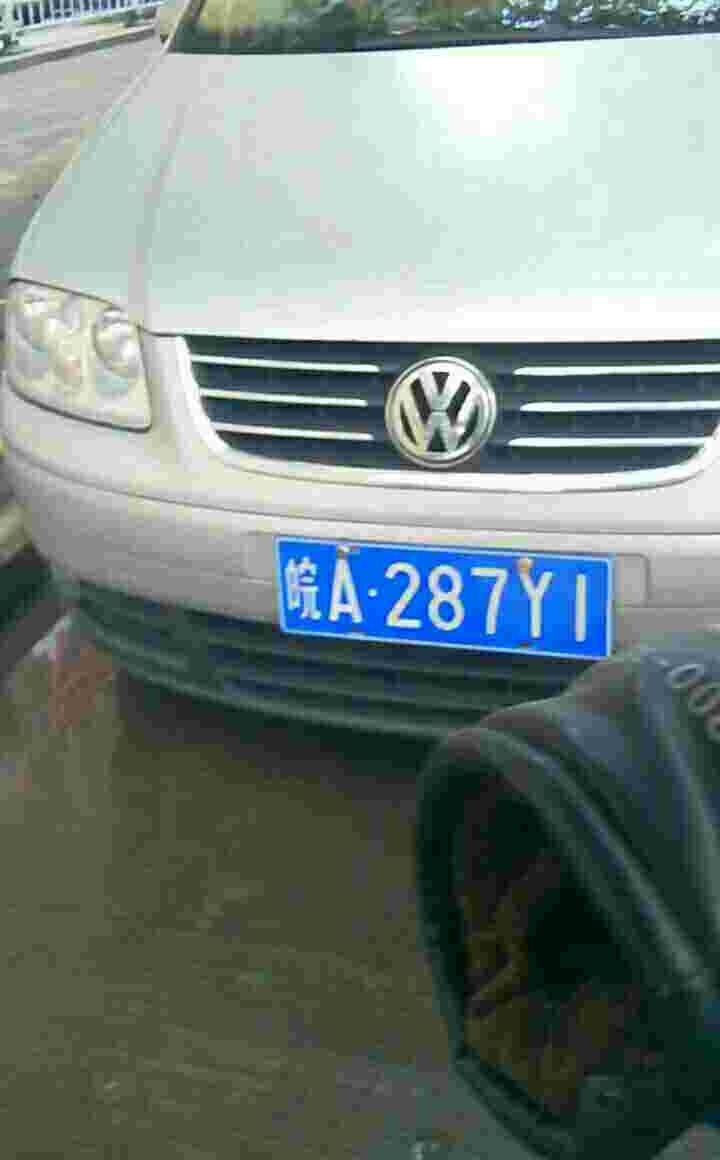license_plate: (277, 533, 615, 662)
